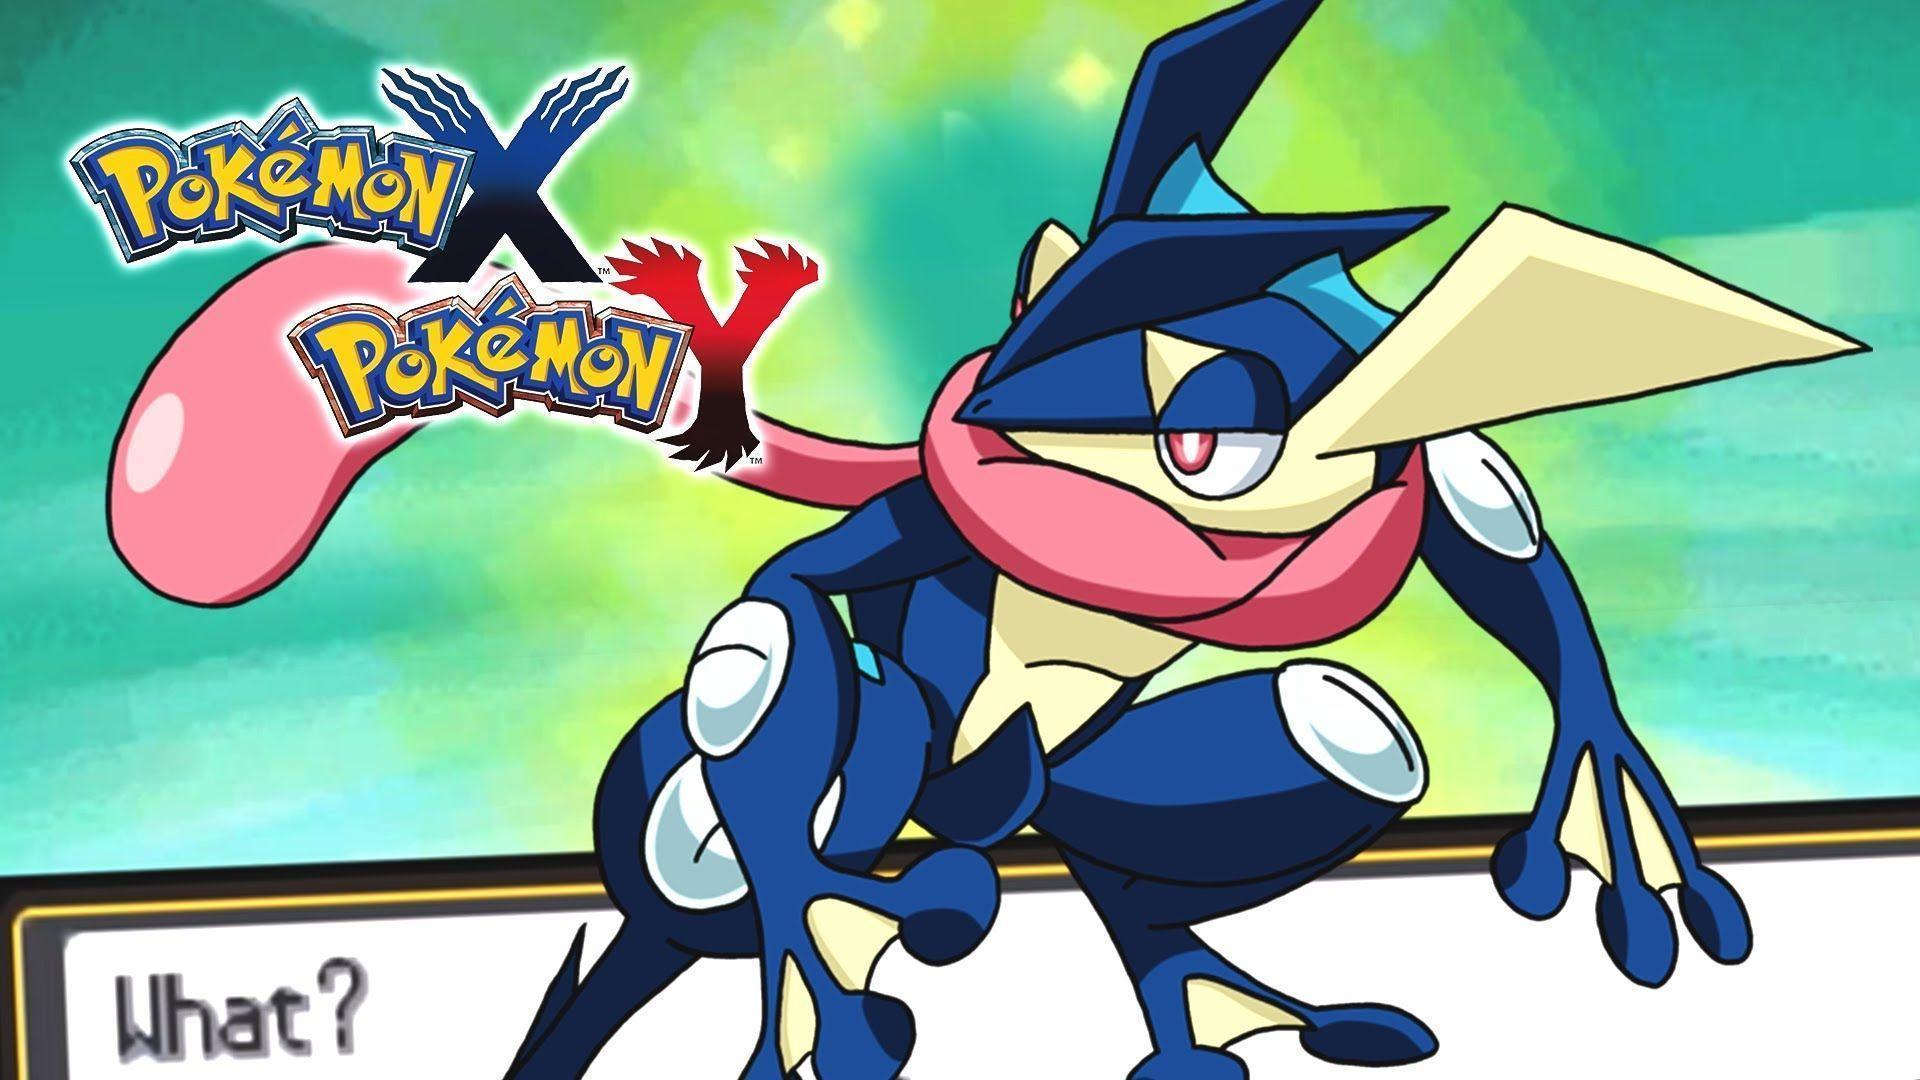greninja: (98, 1, 1880, 1079)
